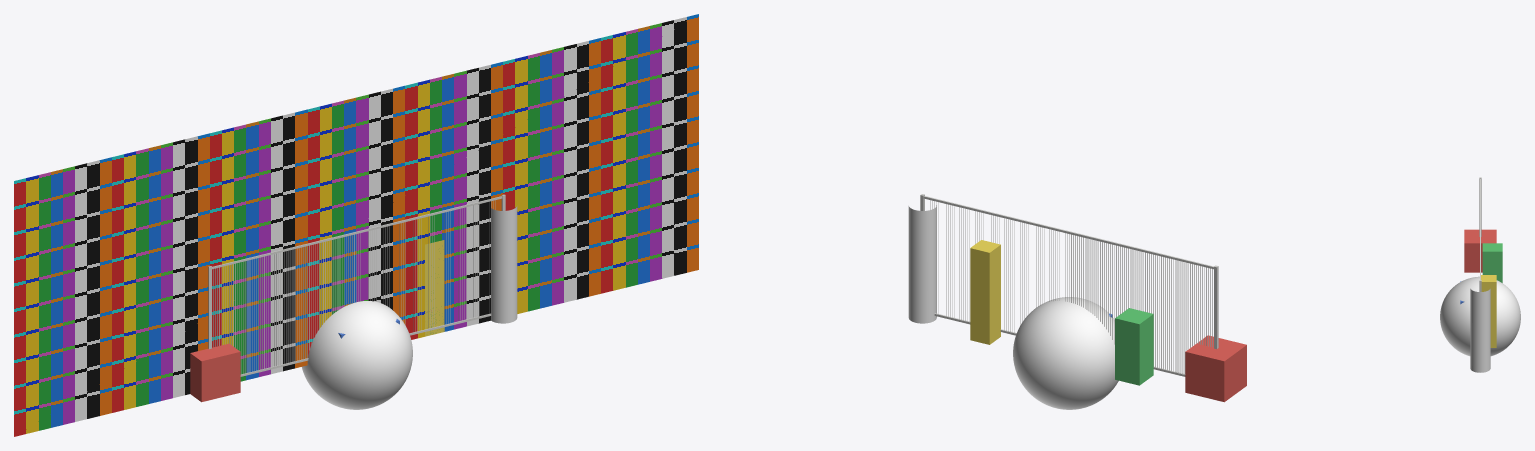
Rendered from temporal_pan.gltf.
The picture shows the model from 3 angles, left to right: view 1: azimuth 30°, elevation 25°; view 2: azimuth 150°, elevation 25°; view 3: azimuth 270°, elevation 25°; orthographic projection. The views are drawn at different scales.
Visible parts, largest first — view 1: backdrop_wall, fence, sphere_chrome, props; view 2: fence, props, sphere_chrome; view 3: props, sphere_chrome, fence.
Part boxes in pixels (x1=…): backdrop_wall: x1=14, y1=14, x2=698, y2=436; fence: x1=208, y1=194, x2=505, y2=376; sphere_chrome: x1=302, y1=301, x2=412, y2=409; props: x1=190, y1=206, x2=517, y2=402; fence: x1=920, y1=194, x2=1218, y2=376; props: x1=908, y1=205, x2=1246, y2=402; sphere_chrome: x1=1013, y1=297, x2=1118, y2=409; props: x1=1460, y1=229, x2=1502, y2=372; sphere_chrome: x1=1440, y1=276, x2=1520, y2=356; fence: x1=1479, y1=177, x2=1481, y2=291.
Size of what is drawn, in the model's own units: 14 by 6 by 2.
Materials: 8 (1 with a texture image).
